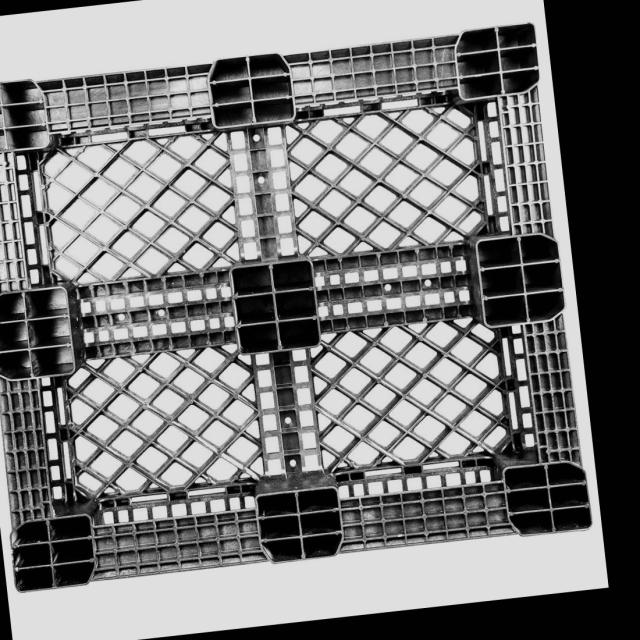non-igps: (0, 14, 604, 599)
